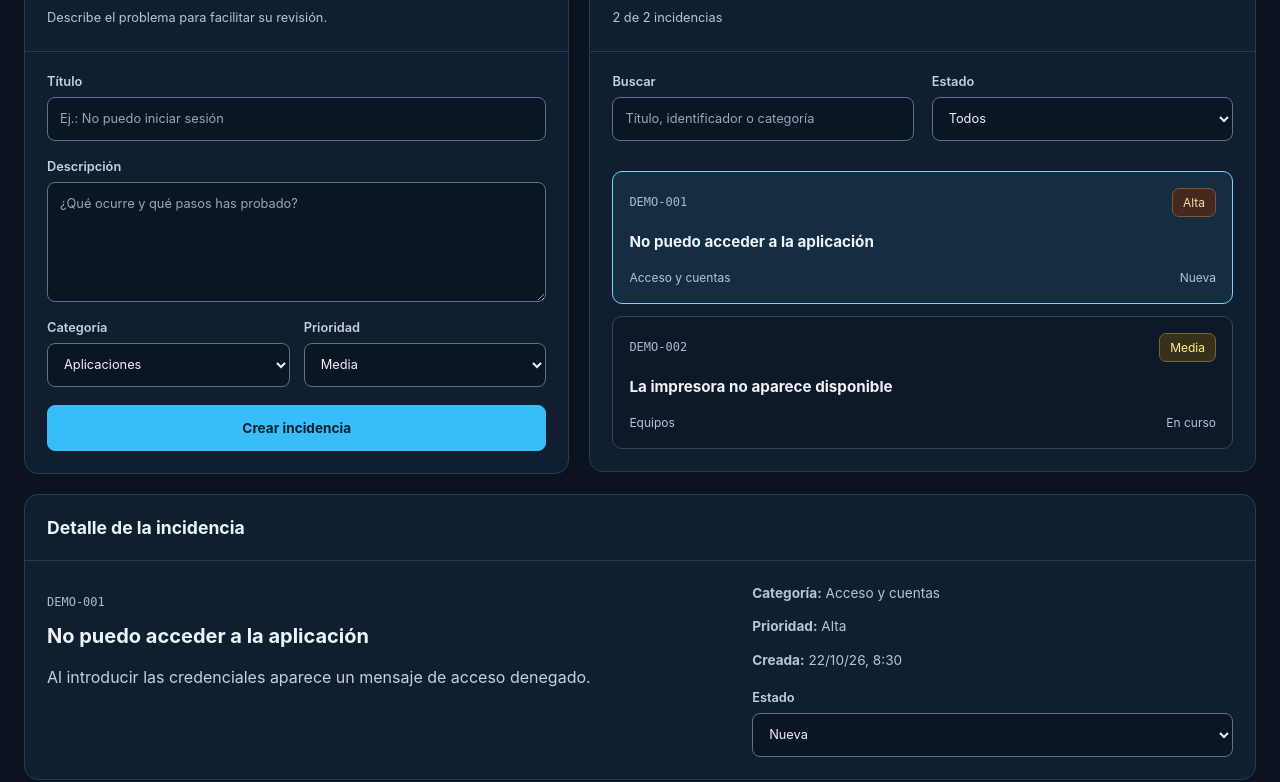
Test: gestionar el detalle › muestra la incidencia seleccionada
This screenshot has width=1280, height=782.
(page scrolled)
Click the button that starts with "DEMO-002": (658, 347) left=612, top=316, right=1233, bottom=449
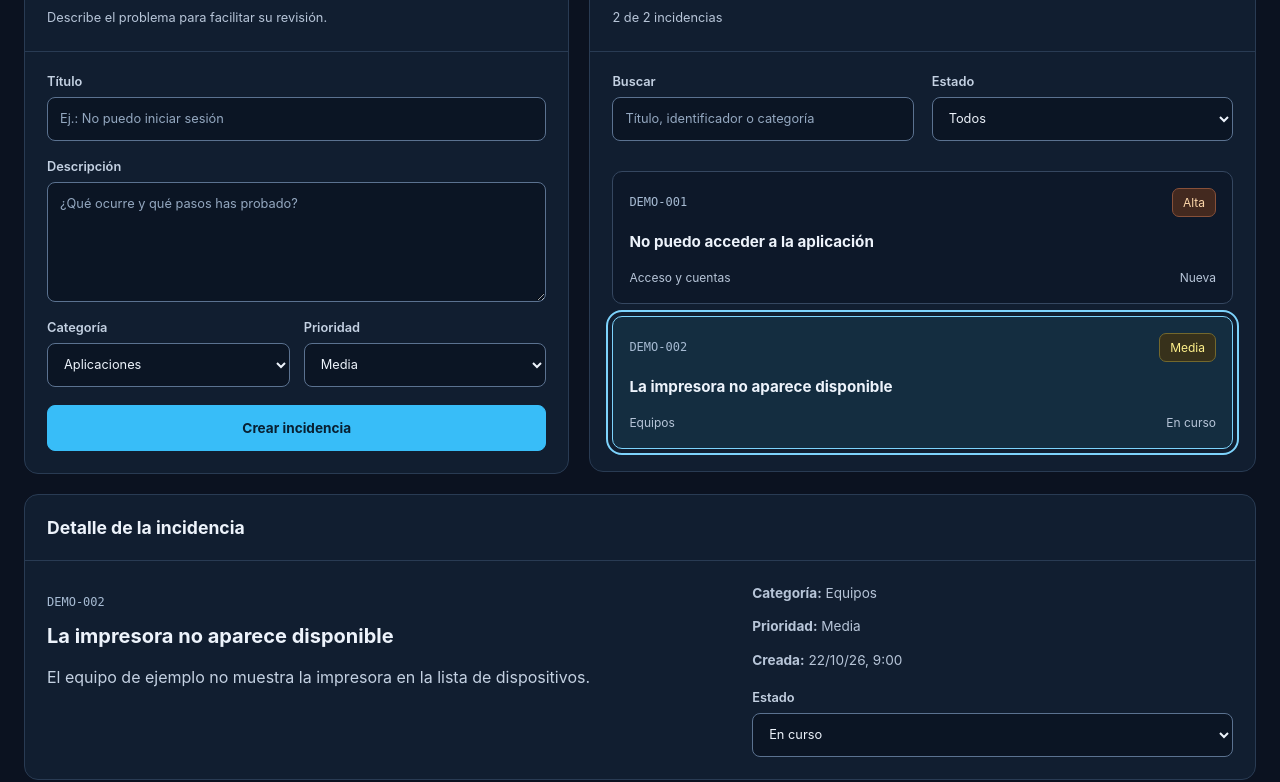
Check: the text "DEMO-002" next to "Categoría:" is shown, box left=47, top=595, right=105, bottom=609
